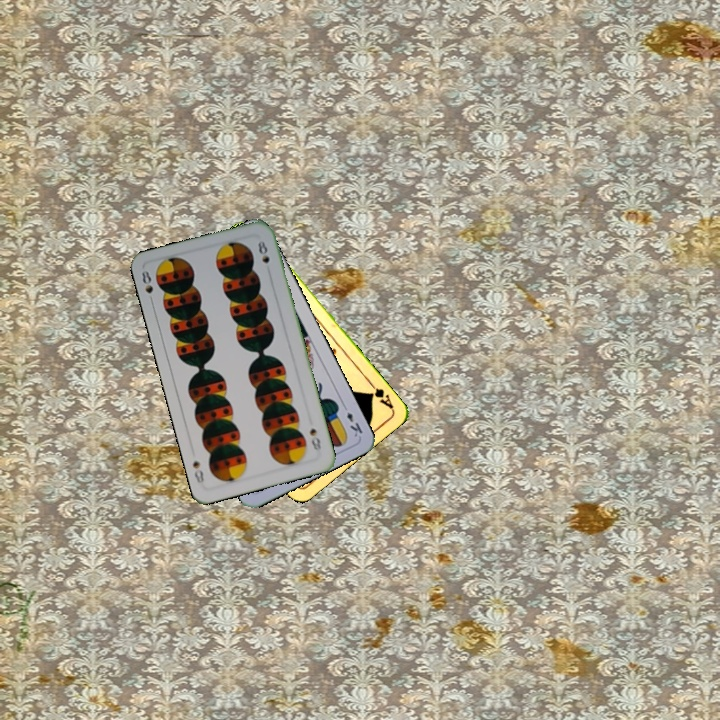EK: (338, 400, 365, 439)
GA: (365, 377, 396, 412)
S8: (138, 266, 156, 307), (306, 424, 324, 454)
